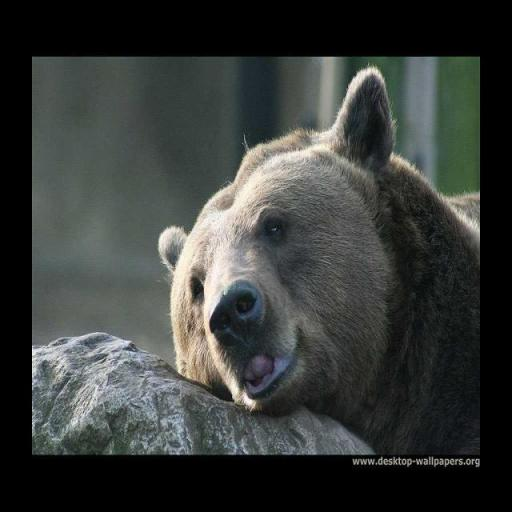Bear: (157, 62, 481, 456)
